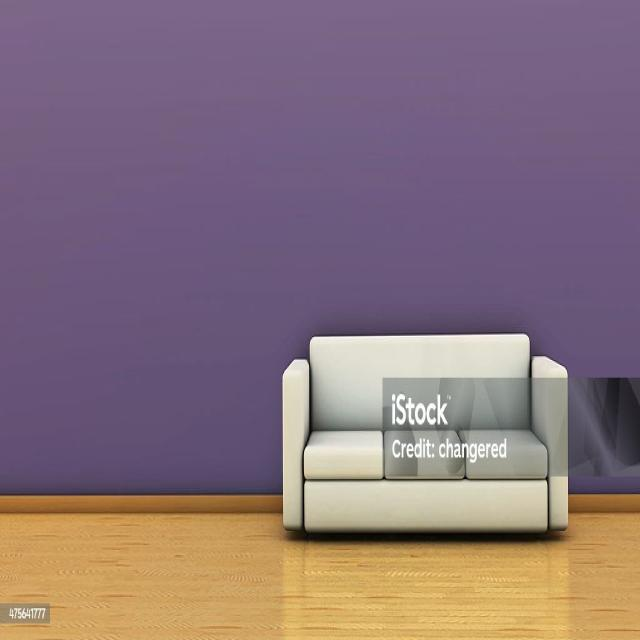back_cushion: (311, 335, 529, 431)
base: (0, 0, 639, 639), (304, 480, 547, 531)
left_arm: (531, 356, 568, 528)
right_arm: (282, 360, 309, 528)
seat_cushion: (303, 430, 546, 479)
stallion-sofa1: (0, 0, 639, 639)
